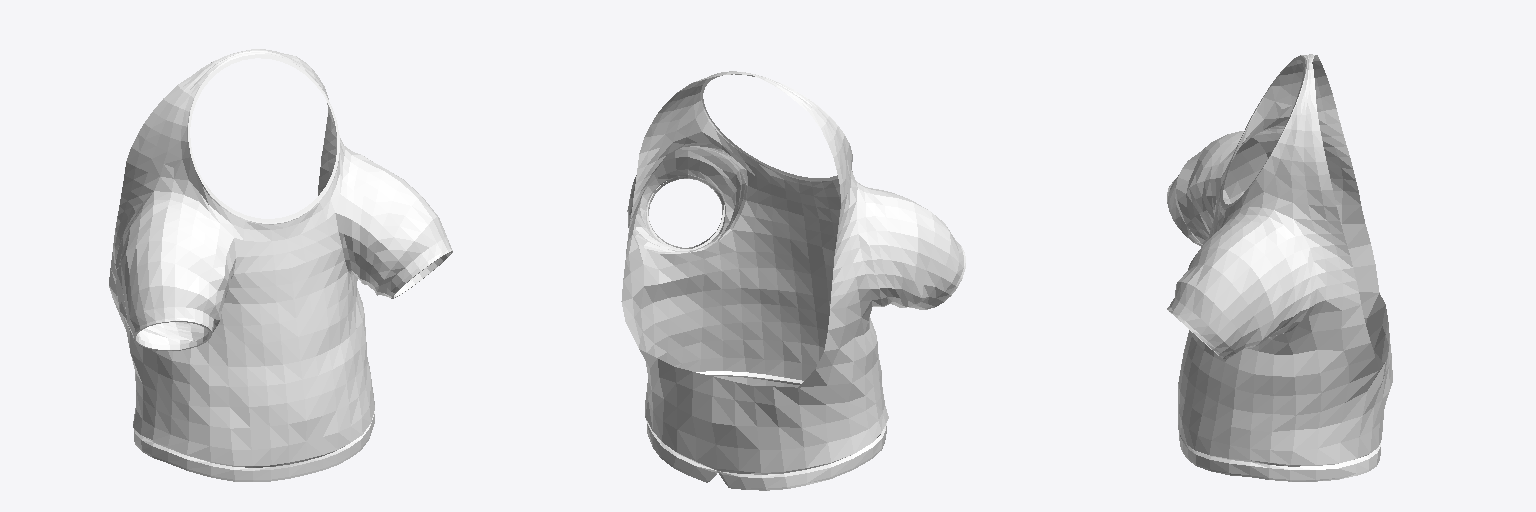
File: ZBrushPolyMesh3D.OBJ
3 renders of one model, left to right at view 1: azimuth 30°, elevation 25°; view 2: azimuth 150°, elevation 25°; view 3: azimuth 270°, elevation 25°, orthographic.
Visible parts, largest first — view 1: ZBrushPolyMesh3D; view 2: ZBrushPolyMesh3D; view 3: ZBrushPolyMesh3D.
Boxes of the visible parts, x1=… form: ZBrushPolyMesh3D: x1=109, y1=49, x2=452, y2=481; ZBrushPolyMesh3D: x1=621, y1=71, x2=965, y2=490; ZBrushPolyMesh3D: x1=1167, y1=54, x2=1392, y2=481.
Bounding box in the file's own units: 0.0768 × 0.0899 × 0.0478.